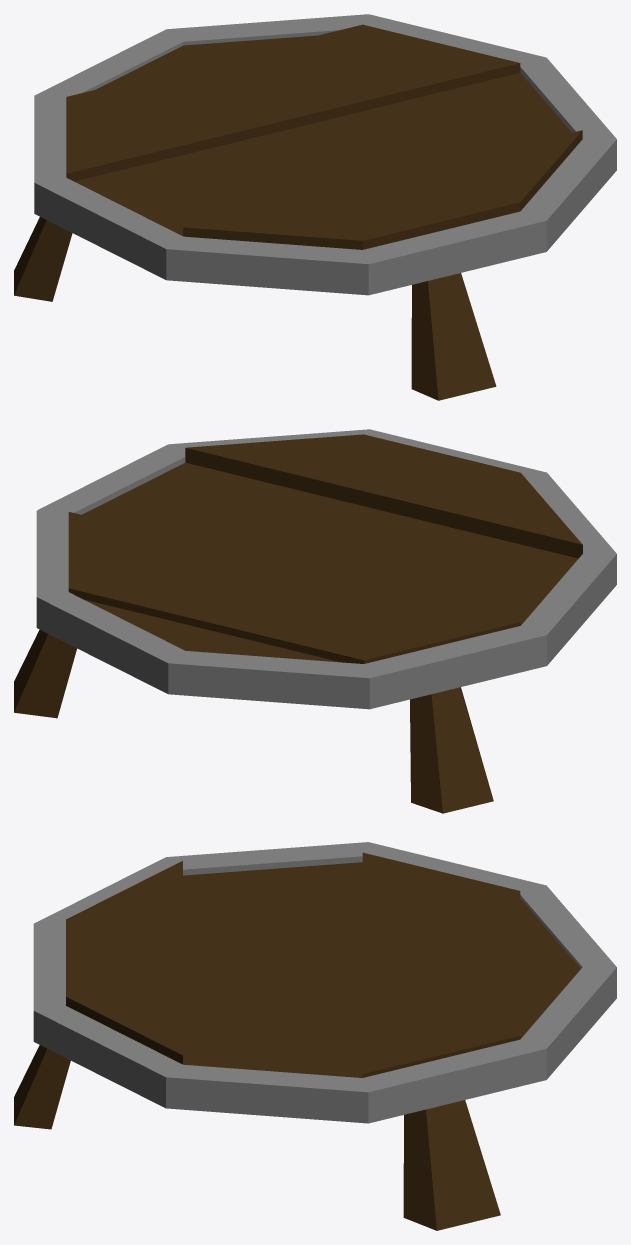
The model's file is table.fbx.
3 renders of one model, top to bottom at view 1: azimuth 30°, elevation 25°; view 2: azimuth 150°, elevation 25°; view 3: azimuth 270°, elevation 25°, orthographic.
Parts seen in each view (by area): view 1: Cylinder; view 2: Cylinder; view 3: Cylinder.
Part boxes in pixels (x1,y1,x2,y2): Cylinder: (14, 14, 616, 400); Cylinder: (14, 429, 616, 813); Cylinder: (14, 842, 616, 1230).
Size of the model in its own units: 197 by 56.24 by 201.
